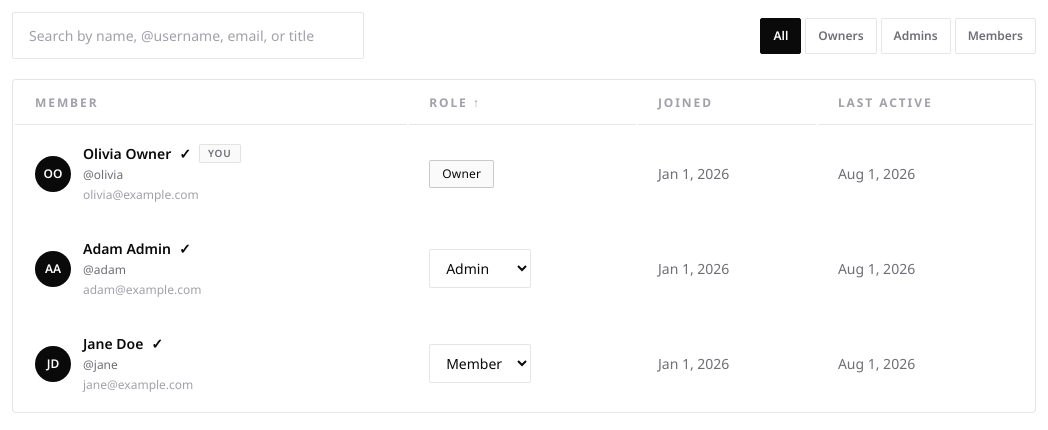
Test case: TeamRoster › filters rows by the role chip
The image size is (1048, 430).
Click the button "Admins" at (916,36), box [881,18,951,54]
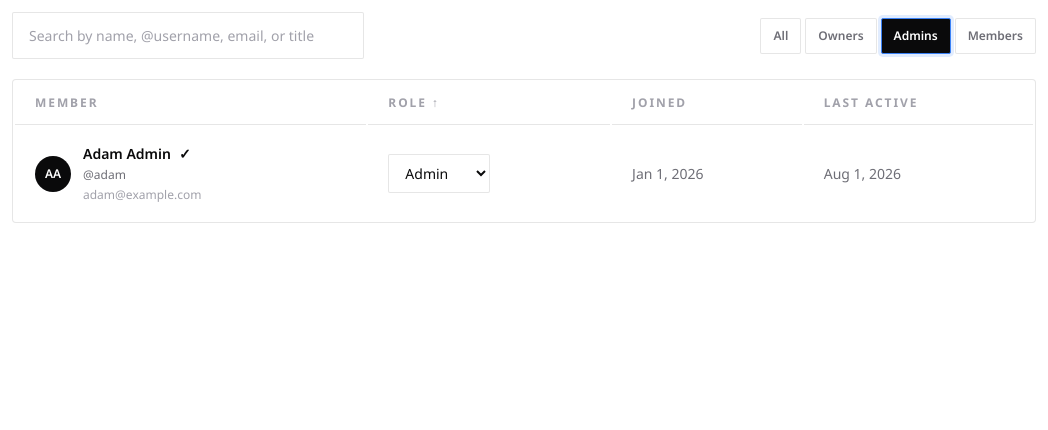
Expected: the text "Adam Admin" is shown, [83,144,171,163]
Now the button "Jane Doe" is gone
Now the button "Olivia Owner" is gone
